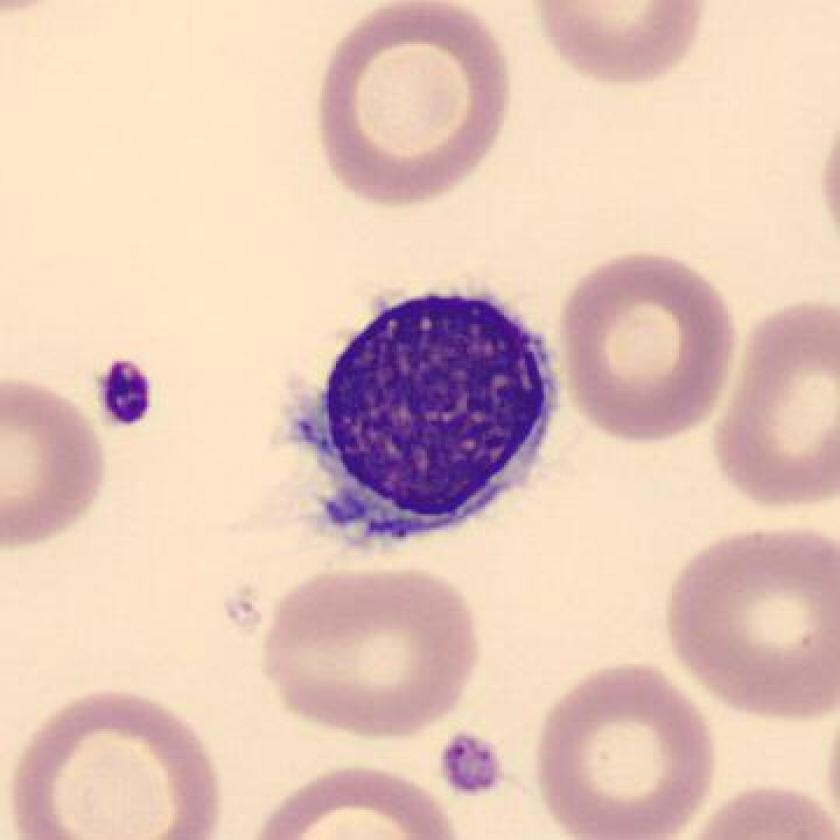lymphocyte: (291, 281, 571, 554)
